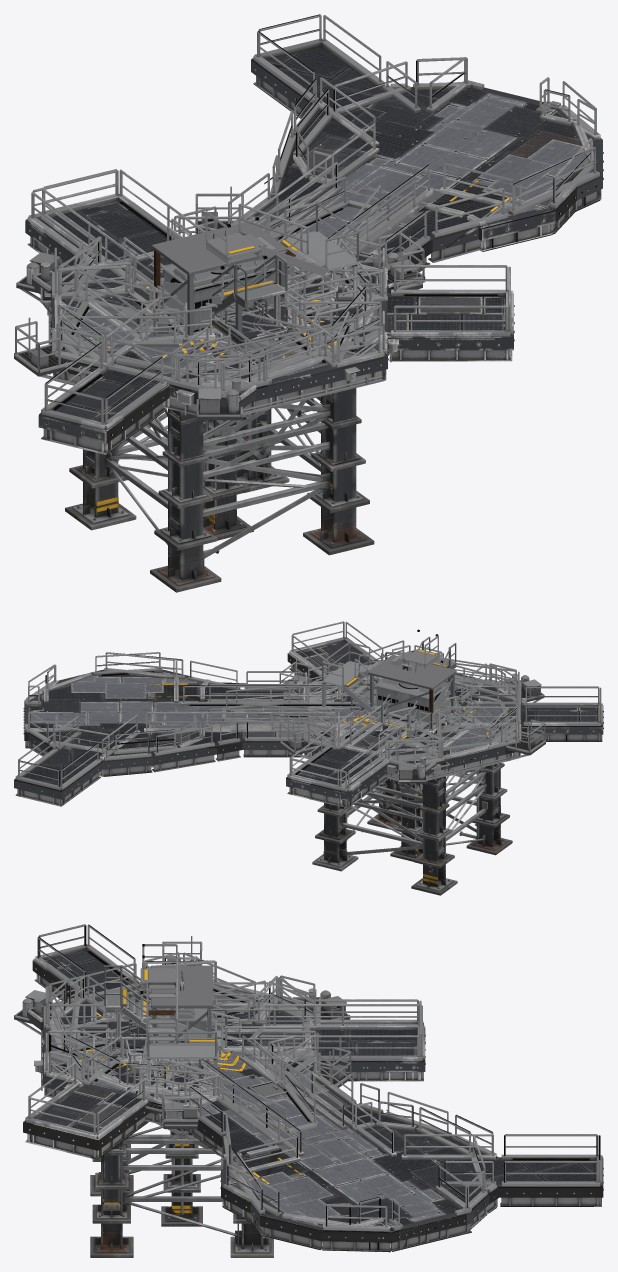
The model's file is settlement.glb.
The picture shows the model from 3 angles, top to bottom: view 1: azimuth 30°, elevation 25°; view 2: azimuth 150°, elevation 25°; view 3: azimuth 270°, elevation 25°; orthographic projection. The views are drawn at different scales.
Parts seen in each view (by area): view 1: deck-l2, deck-l1, deck-l3, legs-5, deck-m3, deck-m1, deck-s3, deck-m2, legs-4, deck-s2, stair-2, deck-d (+13 smaller); view 2: deck-l2, deck-l3, deck-l1, legs-5, deck-m1, deck-s3, deck-m3, legs-4, deck-m2, stair-2, deck-m4, frame (+12 smaller); view 3: deck-l2, deck-l1, deck-l3, deck-m3, deck-m1, deck-s3, legs-5, deck-m2, stair-2, legs-4, deck-d, deck-m4 (+12 smaller).
Boxes of the visible parts, <box> form: deck-l2: <box>71,14,603,358</box>; deck-l1: <box>54,57,596,414</box>; deck-l3: <box>38,57,602,454</box>; legs-5: <box>65,388,374,592</box>; deck-m3: <box>51,206,514,408</box>; deck-m1: <box>41,169,374,409</box>; deck-s3: <box>25,169,336,406</box>; deck-m2: <box>51,176,387,420</box>; legs-4: <box>69,394,369,550</box>; deck-s2: <box>55,265,387,406</box>; stair-2: <box>205,201,359,300</box>; deck-d: <box>32,186,387,420</box>; deck-l2: <box>14,652,457,806</box>; deck-l3: <box>23,652,603,776</box>; deck-l1: <box>23,652,521,770</box>; legs-5: <box>312,763,512,895</box>; deck-m1: <box>286,653,510,806</box>; deck-s3: <box>287,654,517,807</box>; deck-m3: <box>287,621,521,761</box>; legs-4: <box>315,763,509,868</box>; deck-m2: <box>222,653,521,755</box>; stair-2: <box>321,629,439,720</box>; deck-m4: <box>305,653,521,784</box>; frame: <box>368,654,456,728</box>; deck-l2: <box>60,980,603,1252</box>; deck-l1: <box>49,957,488,1251</box>; deck-l3: <box>32,924,498,1249</box>; deck-m3: <box>23,956,321,1159</box>; deck-m1: <box>42,961,425,1097</box>; deck-s3: <box>46,963,423,1081</box>; legs-5: <box>90,1129,273,1257</box>; deck-m2: <box>45,952,320,1133</box>; stair-2: <box>140,944,217,1086</box>; legs-4: <box>92,1123,251,1223</box>; deck-d: <box>14,981,352,1100</box>; deck-m4: <box>42,975,321,1097</box>.
Size of the model in its own units: 25.06 by 10.93 by 21.84.
Materials: 53 (53 with a texture image).
